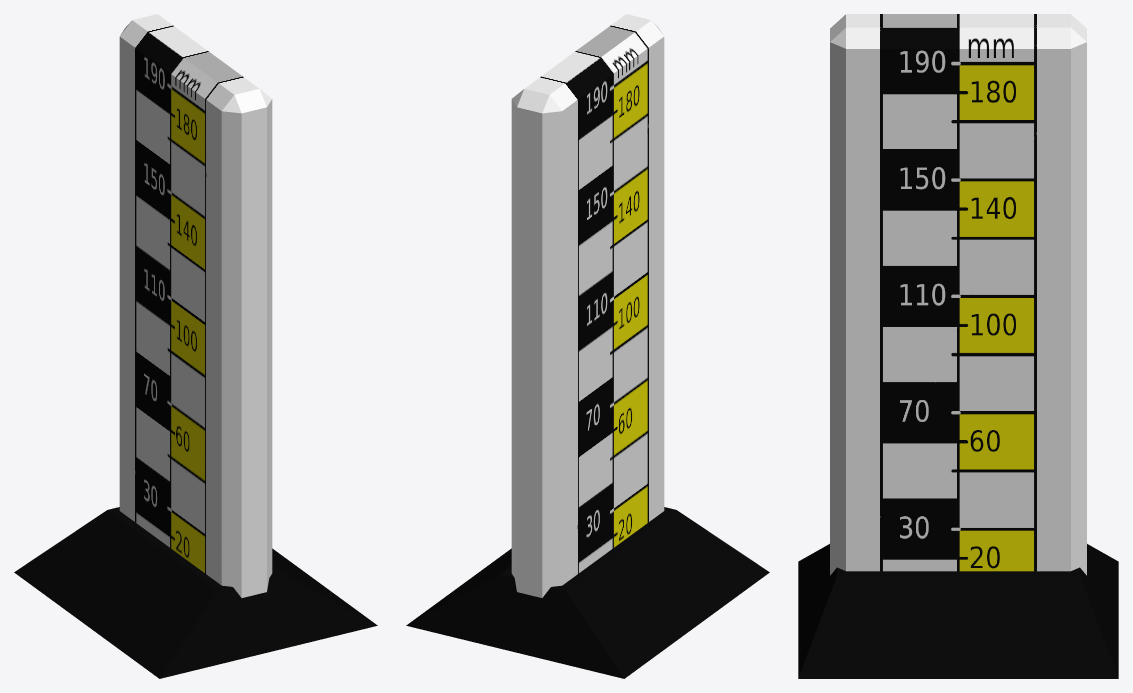
Rendered from Skala2.fbx.
3 views of the same model, side by side, from view 1: azimuth 30°, elevation 25°; view 2: azimuth 150°, elevation 25°; view 3: azimuth 270°, elevation 25° (orthographic). The views are drawn at different scales.
Visible parts, largest first — view 1: pCube1, pCube2; view 2: pCube1, pCube2; view 3: pCube1, pCube2.
Boxes of the visible parts, <box> form: pCube1: <box>119,14,272,597</box>; pCube2: <box>14,507,377,678</box>; pCube1: <box>511,14,664,597</box>; pCube2: <box>406,507,769,678</box>; pCube1: <box>830,14,1086,575</box>; pCube2: <box>798,544,1118,678</box>.
Size of the model in its own units: 0.8645 by 2.06 by 0.9984.
